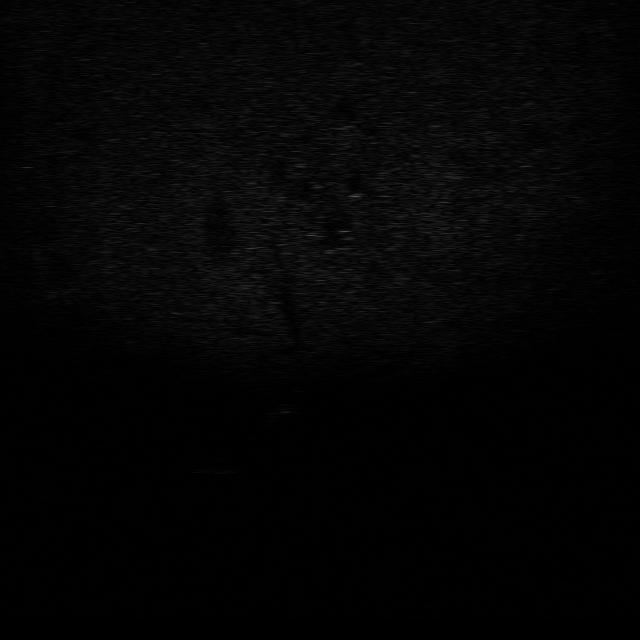ball: (192, 452, 236, 480)
human body: (262, 382, 298, 427)
